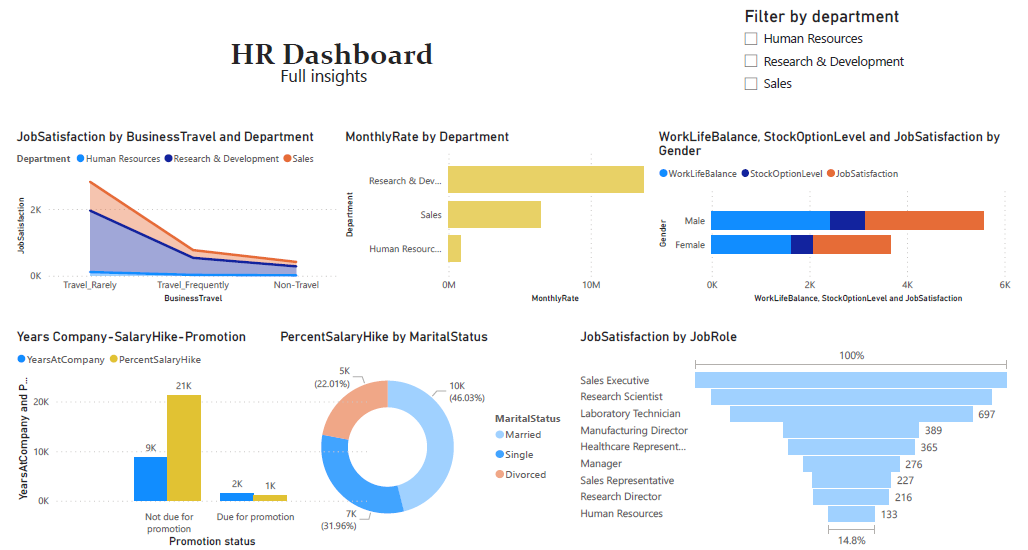

The dashboard page shown, as its layout file describes it:
{"tool":"powerbi","page":{"name":"Page 1","canvas":[1280,720],"ordinal":0},"visuals":[{"type":"textbox","box":[272.9,55.3,291.9,72.6],"z":0},{"type":"textbox","box":[336.8,91.6,164.1,43.2],"z":1000},{"type":"shape","box":[125.3,447.8,390.2,14.4],"z":2000},{"type":"donutChart","fields":{"Category":["HR Analytics Data.MaritalStatus"],"Y":["Sum(HR Analytics Data.PercentSalaryHike)"]},"box":[336.8,433.6,383.5,285],"z":3000},{"type":"clusteredColumnChart","title":"Years Company-SalaryHike-Promotion","fields":{"Category":["HR Analytics Data.Promotion status"],"Y":["Sum(HR Analytics Data.YearsAtCompany)","Sum(HR Analytics Data.PercentSalaryHike)"]},"box":[0,433.6,459.5,285],"z":4000},{"type":"funnel","fields":{"Category":["HR Analytics Data.JobRole"],"Y":["Sum(HR Analytics Data.JobSatisfaction)"]},"box":[720.3,433.6,559.7,285],"z":5000},{"type":"barChart","fields":{"Category":["HR Analytics Data.Department"],"Y":["Sum(HR Analytics Data.MonthlyRate)"]},"box":[419.8,177.9,426.7,228],"z":6000},{"type":"stackedAreaChart","fields":{"Category":["HR Analytics Data.BusinessTravel"],"Series":["HR Analytics Data.Department"],"Y":["Sum(HR Analytics Data.JobSatisfaction)"]},"box":[0,177.9,419.8,228],"z":7000},{"type":"barChart","fields":{"Y":["Sum(HR Analytics Data.WorkLifeBalance)","Sum(HR Analytics Data.StockOptionLevel)","Sum(HR Analytics Data.JobSatisfaction)"],"Category":["HR Analytics Data.Gender"]},"box":[820.5,177.9,459.5,228],"z":8000},{"type":"slicer","fields":{"Values":["HR Analytics Data.Department"]},"box":[922.4,17.3,300.6,131.3],"z":9000}]}

Visuals, with their boxes on the page's 1280x720 design canvas (x1, y1, x2, y2). These are canvas units, not pixel positions in the 1028x550 screenshot, which may show the page scaled, cropped or inside an application window:
textbox: bbox=(273, 55, 565, 128)
textbox: bbox=(337, 92, 501, 135)
shape: bbox=(125, 448, 516, 462)
donutChart - HR Analytics Data.MaritalStatus x Sum(HR Analytics Data.PercentSalaryHike): bbox=(337, 434, 720, 719)
"Years Company-SalaryHike-Promotion" clusteredColumnChart: bbox=(0, 434, 460, 719)
funnel - HR Analytics Data.JobRole x Sum(HR Analytics Data.JobSatisfaction): bbox=(720, 434, 1280, 719)
barChart - HR Analytics Data.Department x Sum(HR Analytics Data.MonthlyRate): bbox=(420, 178, 846, 406)
stackedAreaChart - HR Analytics Data.BusinessTravel x HR Analytics Data.Department: bbox=(0, 178, 420, 406)
barChart - Sum(HR Analytics Data.WorkLifeBalance) x Sum(HR Analytics Data.StockOptionLevel): bbox=(820, 178, 1280, 406)
slicer - HR Analytics Data.Department: bbox=(922, 17, 1223, 149)
